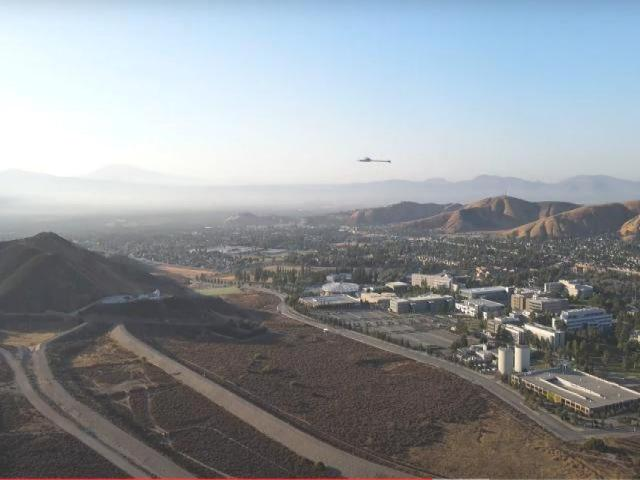iha: (356, 154, 393, 166)
